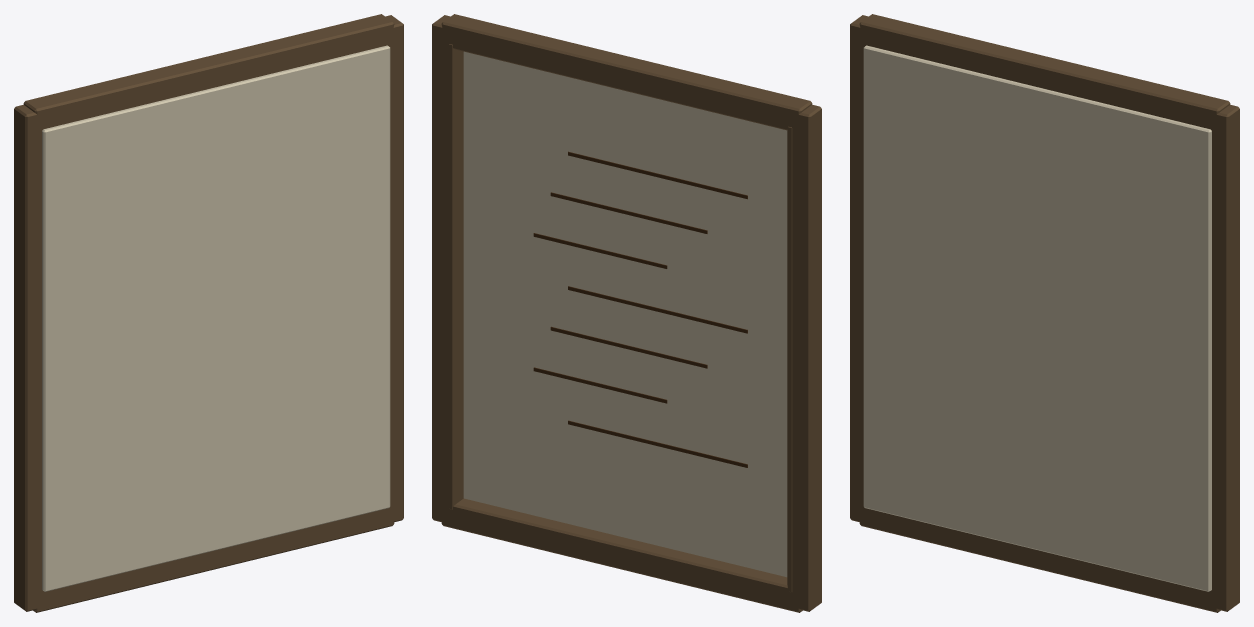
File: classroom-photo-lod1.fbx
The picture shows the model from 3 angles, left to right: view 1: azimuth 30°, elevation 25°; view 2: azimuth 150°, elevation 25°; view 3: azimuth 330°, elevation 25°; orthographic projection.
Parts seen in each view (by area): view 1: Aged attendance backing paper, Eased photograph frame side, Eased photograph frame rail.001, Eased photograph frame side.001, Eased photograph frame rail; view 2: Aged attendance backing paper, Eased photograph frame side, Eased photograph frame side.001, Eased photograph frame rail.001, Eased photograph frame rail, Recessed inner photo frame bead, Recessed inner photo frame bead.001, Faded attendance charcoal mark, Faded attendance charcoal mark.006, Faded attendance charcoal mark.003, Faded attendance charcoal mark.001, Faded attendance charcoal mark.004 (+2 smaller); view 3: Aged attendance backing paper, Eased photograph frame side.001, Eased photograph frame rail.001, Eased photograph frame side, Eased photograph frame rail.
Part boxes in pixels (<box>): Aged attendance backing paper: <box>42,45,390,591</box>; Eased photograph frame side: <box>14,104,47,611</box>; Eased photograph frame rail.001: <box>23,14,394,132</box>; Eased photograph frame side.001: <box>383,15,403,523</box>; Eased photograph frame rail: <box>33,509,394,612</box>; Aged attendance backing paper: <box>463,51,787,577</box>; Eased photograph frame side: <box>787,104,821,611</box>; Eased photograph frame side.001: <box>432,15,463,522</box>; Eased photograph frame rail.001: <box>441,14,812,130</box>; Eased photograph frame rail: <box>441,498,802,612</box>; Recessed inner photo frame bead: <box>787,126,792,592</box>; Recessed inner photo frame bead.001: <box>449,44,453,509</box>; Faded attendance charcoal mark: <box>568,151,747,199</box>; Faded attendance charcoal mark.006: <box>568,420,747,467</box>; Faded attendance charcoal mark.003: <box>568,286,747,333</box>; Faded attendance charcoal mark.001: <box>550,192,707,233</box>; Faded attendance charcoal mark.004: <box>550,326,707,368</box>; Aged attendance backing paper: <box>863,45,1211,591</box>; Eased photograph frame side.001: <box>1206,104,1239,611</box>; Eased photograph frame rail.001: <box>859,14,1230,132</box>; Eased photograph frame side: <box>850,15,870,523</box>; Eased photograph frame rail: <box>859,509,1220,612</box>.
Size of the model in its own units: 88.5 by 113 by 6.2.
